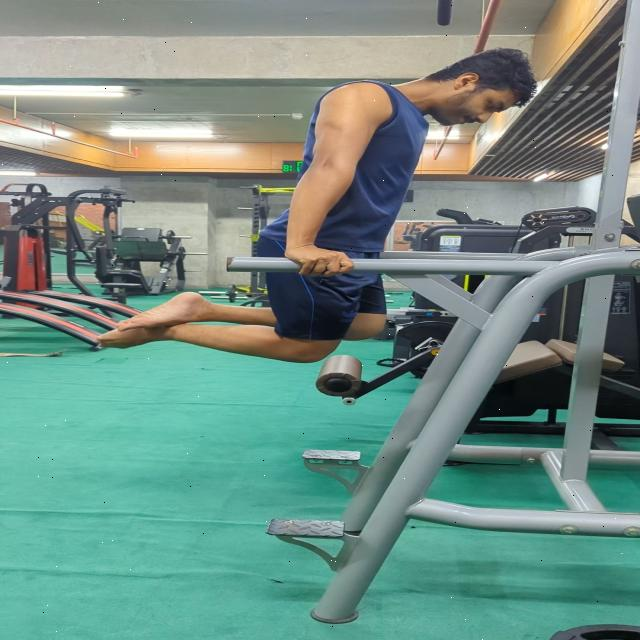Normal_Dips: (89, 36, 545, 372)
